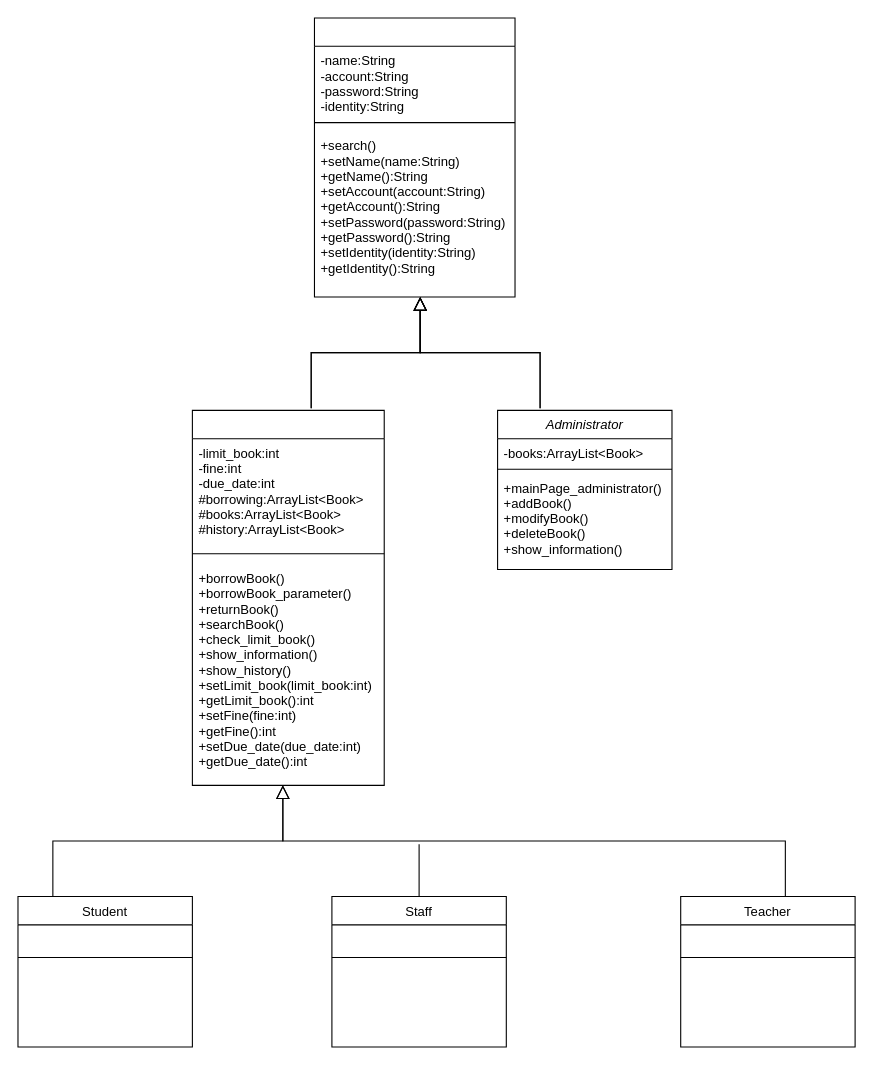
Some shapes in this 873 by 1065 pixel diagram are drawn without their labels. Here are the shapes that lost their labels. From the top down, the box of each, then its label:
(313, 17, 515, 297): User
(191, 409, 384, 785): Member
